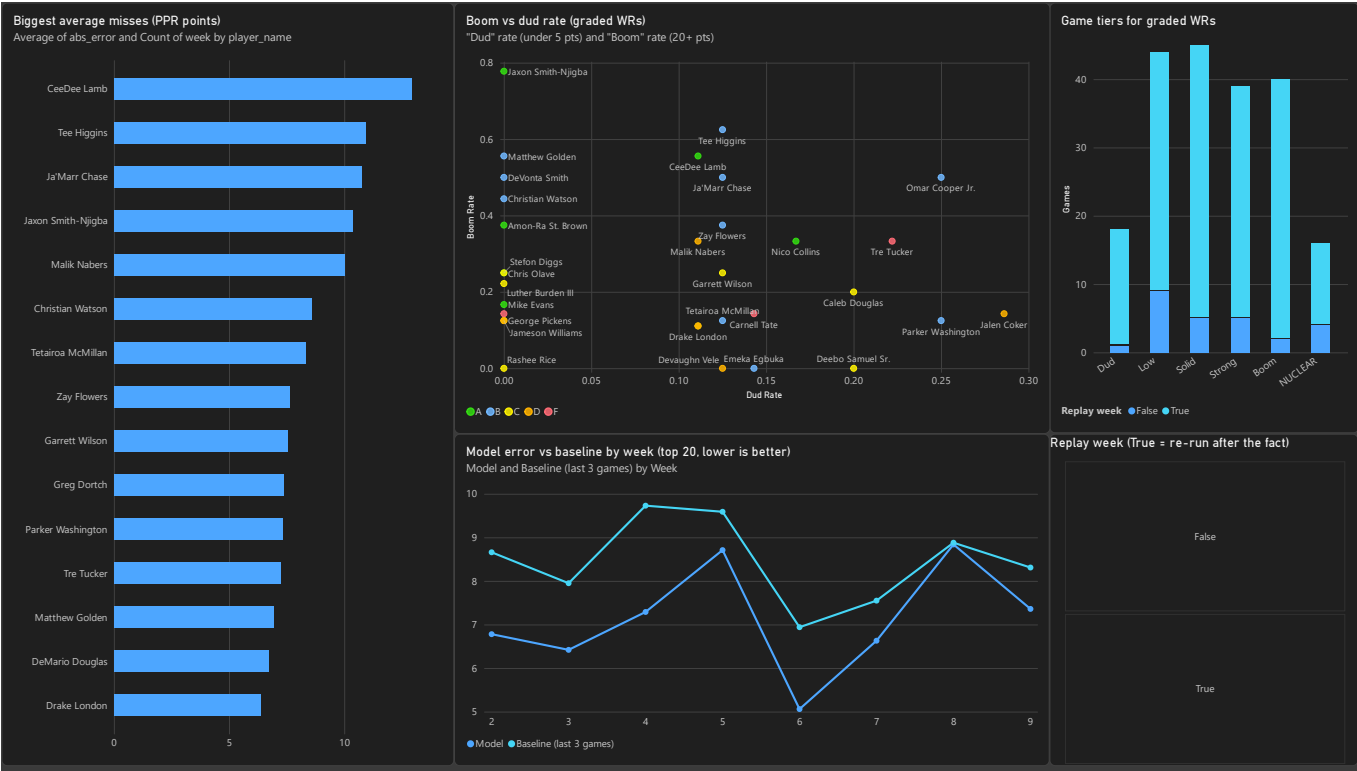

The page's visual inventory and layout, read from the dashboard file:
{"tool":"powerbi","page":{"name":"Page 1","canvas":[1920,1080],"ordinal":0},"visuals":[{"type":"lineChart","title":"Model error vs baseline by week (top 20, lower is better)","fields":{"Category":["weekly_accuracy.week"],"Y":["Avg(weekly_accuracy.mae)","Avg(weekly_accuracy.baseline_mae)"]},"box":[640,610,842,470],"z":0},{"type":"clusteredBarChart","title":"Biggest average misses (PPR points)","fields":{"Category":["player_weeks.player_name"],"Y":["Avg(player_weeks.abs_error)"]},"box":[0,0,640,1080],"z":1000},{"type":"columnChart","title":"Game tiers for graded WRs","fields":{"Category":["player_weeks.tier"],"Series":["player_weeks.replay"],"Y":["CountNonNull(player_weeks.tier)"]},"box":[1481.7,0,438.9,608.9],"z":2000},{"type":"scatterChart","title":"Boom vs dud rate (graded WRs)","fields":{"Category":["player_reliability.player_name"],"Series":["player_reliability.grade"],"X":["player_reliability.dud_rate"],"Y":["player_reliability.boom_rate"]},"box":[640,0,843.3,610],"z":3000},{"type":"slicer","title":"Replay week (True = re-run after the fact)","fields":{"Values":["player_weeks.replay"]},"box":[1482,610,438,470],"z":3001}]}

Visuals, with their boxes in screenshot pixels (x1, y1, x2, y2), scaled from the page's 1920x1080 canvas onto the 1357x771 screenshot:
"Model error vs baseline by week (top 20, lower is better)" lineChart: locate(452, 435, 1047, 770)
"Biggest average misses (PPR points)" clusteredBarChart: locate(0, 0, 452, 770)
"Game tiers for graded WRs" columnChart: locate(1047, 0, 1356, 435)
"Boom vs dud rate (graded WRs)" scatterChart: locate(452, 0, 1048, 435)
"Replay week (True = re-run after the fact)" slicer: locate(1047, 435, 1356, 770)
